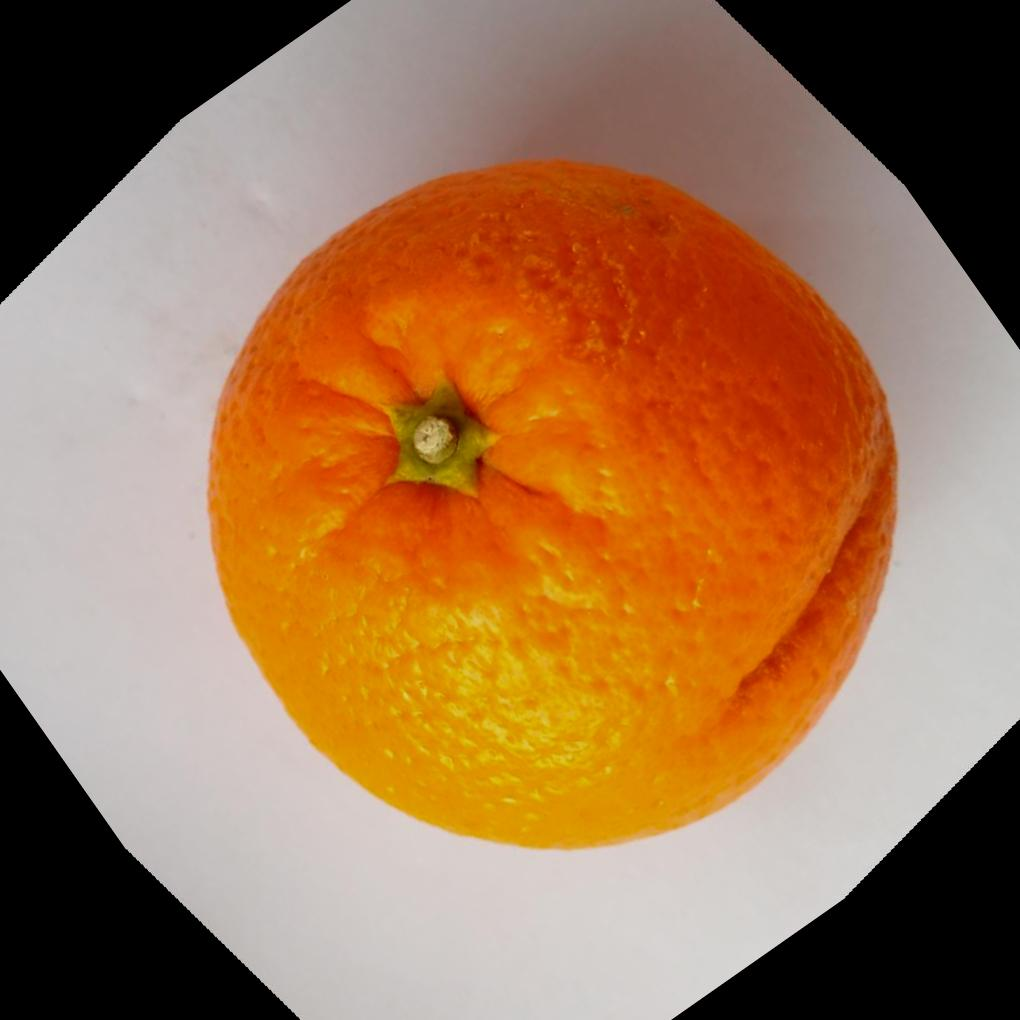FreshGuava: (202, 152, 898, 850)
